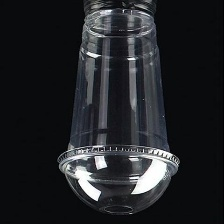glass: (54, 1, 185, 218)
